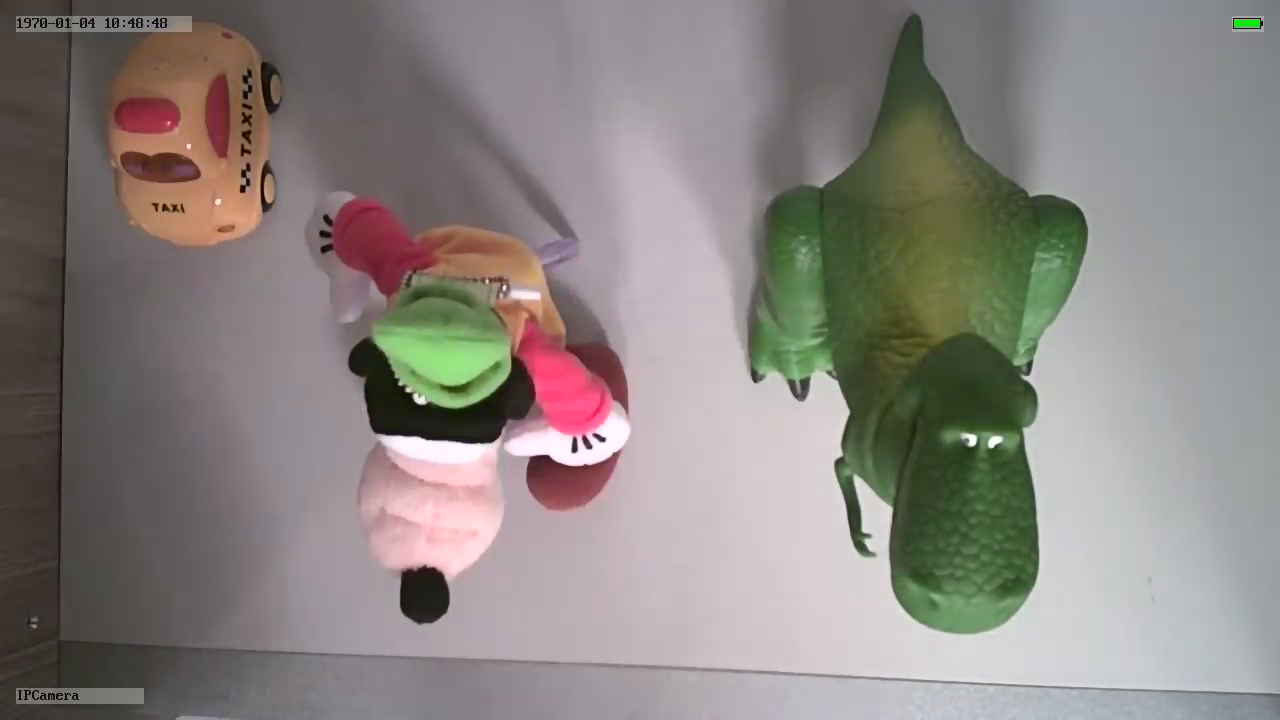goofy: (304, 187, 631, 634)
